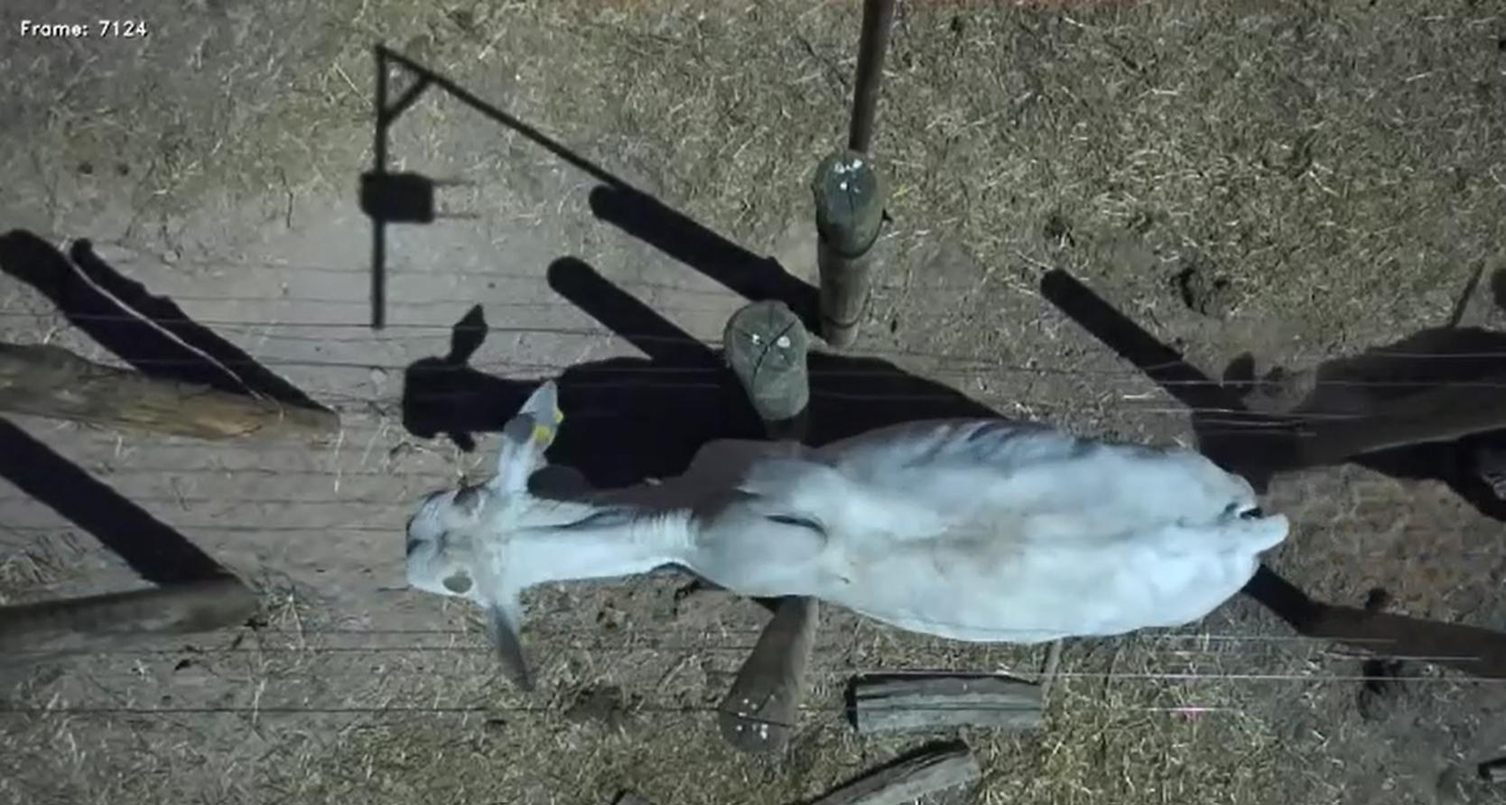cattle: (403, 377, 1291, 693)
